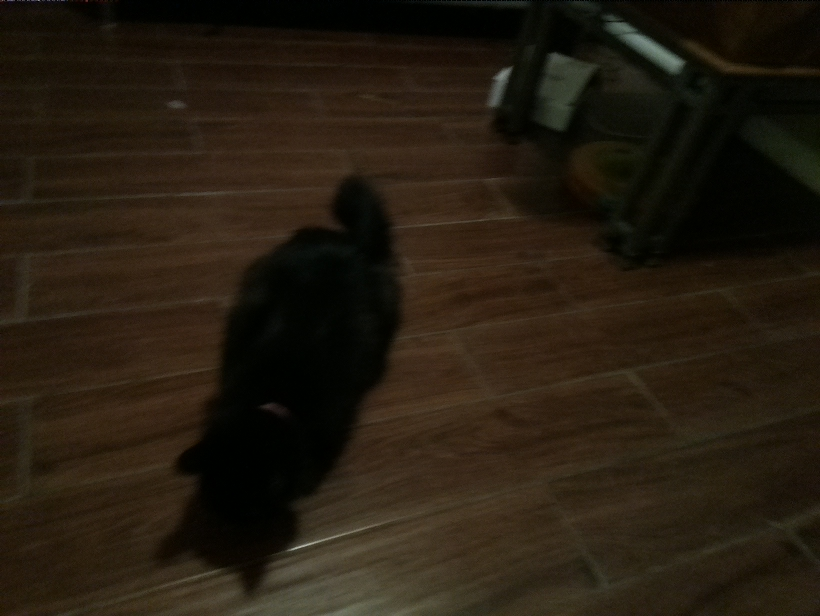cat: (182, 185, 403, 502)
